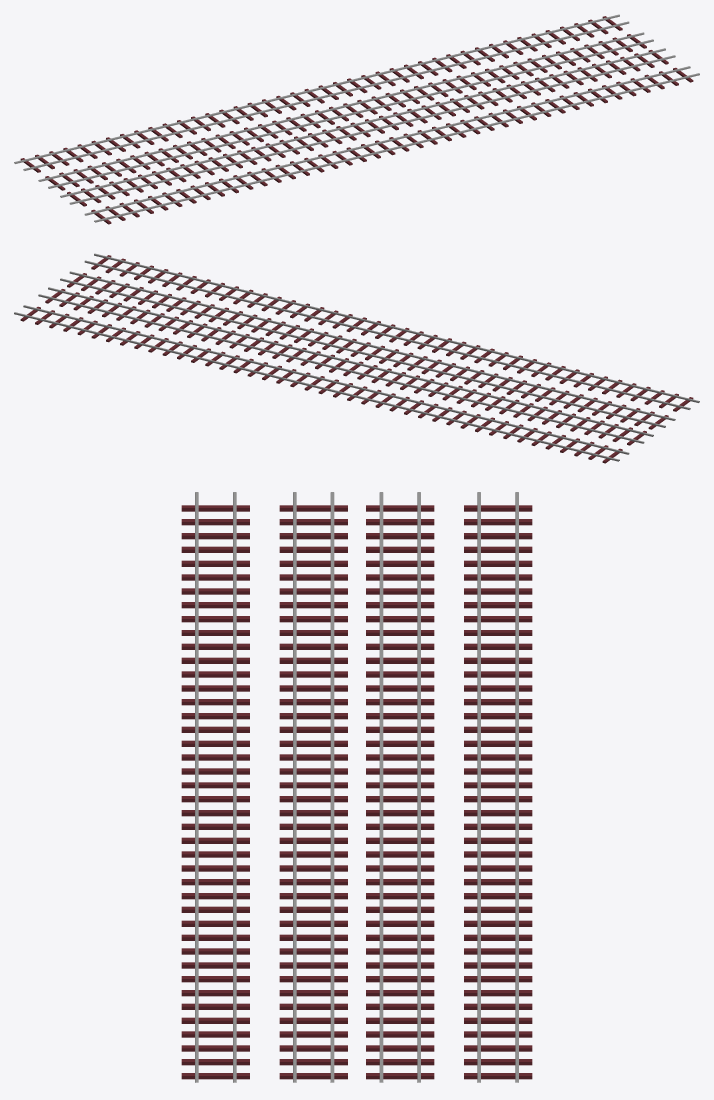
The model's file is trainstationtracks.fbx.
3 views of the same model, one above another, from view 1: azimuth 30°, elevation 25°; view 2: azimuth 150°, elevation 25°; view 3: azimuth 270°, elevation 25° (orthographic). The views are drawn at different scales.
Parts seen in each view (by area): view 1: TrainRails.004; view 2: TrainRails.004; view 3: TrainRails.004.
Part boxes in pixels (x1,y1,x2,y2): TrainRails.004: [14, 14, 699, 224]; TrainRails.004: [14, 253, 699, 463]; TrainRails.004: [181, 492, 532, 1082].
Size of the model in its own units: 12141 by 62.49 by 3046.
